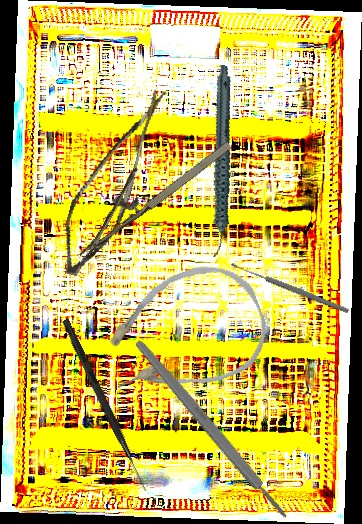Cannula: (87, 250, 280, 416)
Handpiece: (171, 64, 269, 259)
Hook Surgical: (60, 318, 151, 493)
Micro Scissor: (53, 74, 167, 287)
Needle Holder: (57, 116, 235, 260)
Scalpel Handle: (132, 336, 291, 523)
Surgical Spoon: (230, 260, 350, 315)
